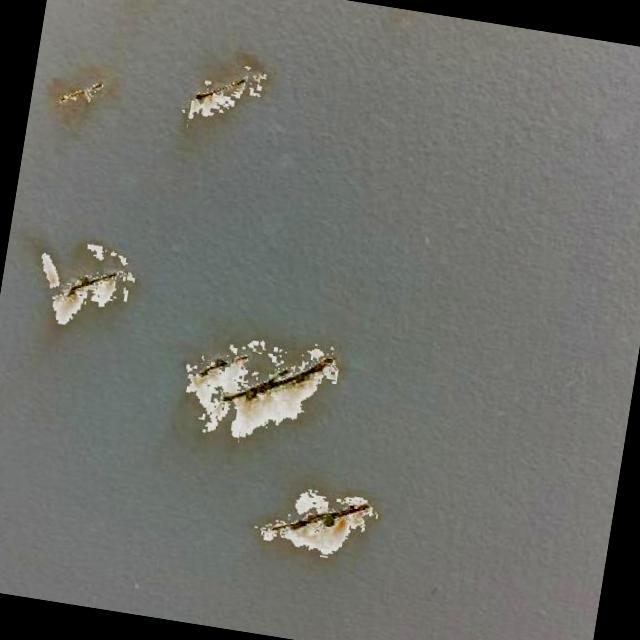crack: (223, 357, 333, 401), (263, 501, 374, 536), (191, 77, 247, 105), (65, 274, 115, 301), (200, 356, 249, 377), (64, 82, 100, 101)
dent: (186, 340, 326, 440), (42, 245, 135, 326), (282, 491, 379, 557), (208, 53, 268, 116), (49, 77, 115, 113)
